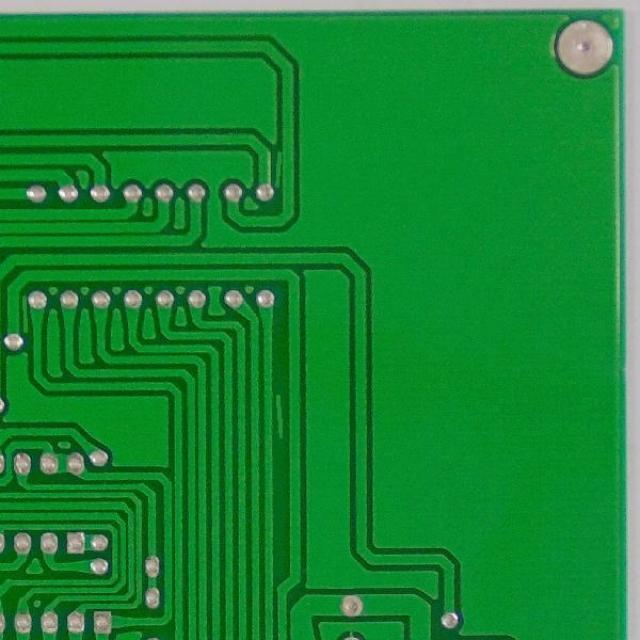Spurious_Cooper: (274, 389, 288, 441), (273, 146, 284, 188)
